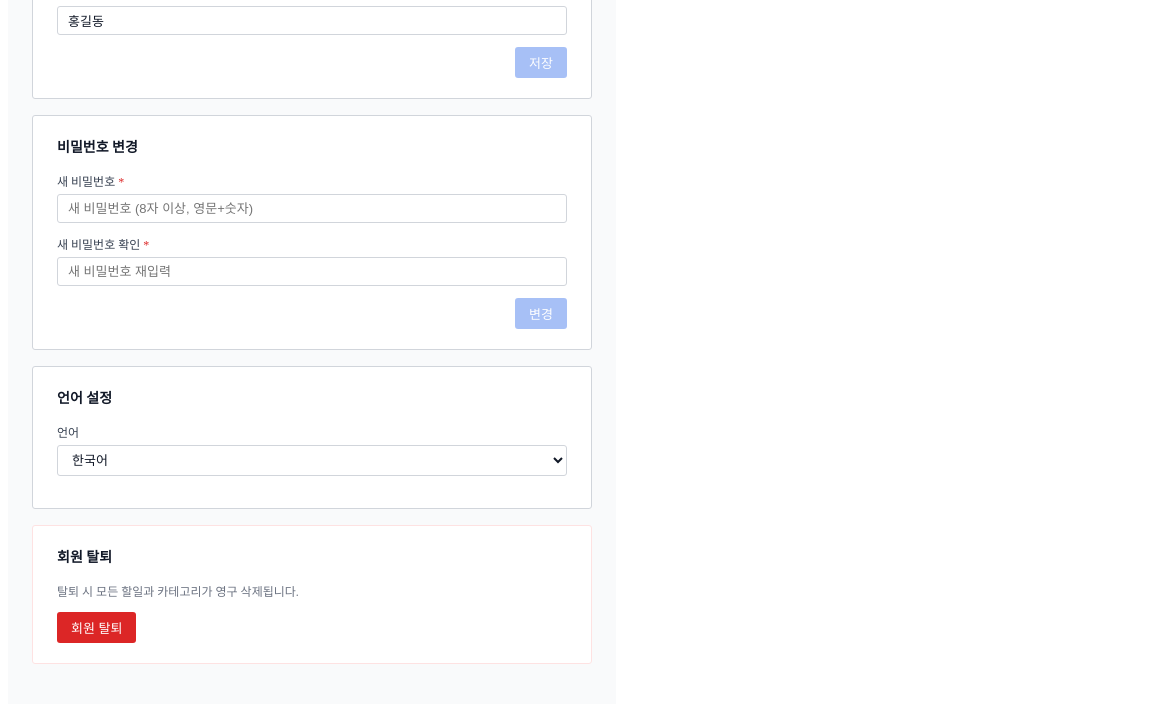
Test: ProfilePage — 회원 탈퇴 › 탈퇴 버튼 클릭 시 확인 다이얼로그가 표시된다
(page scrolled)
Click the button "회원 탈퇴": (97, 628) top-left (57, 612), bottom-right (136, 643)
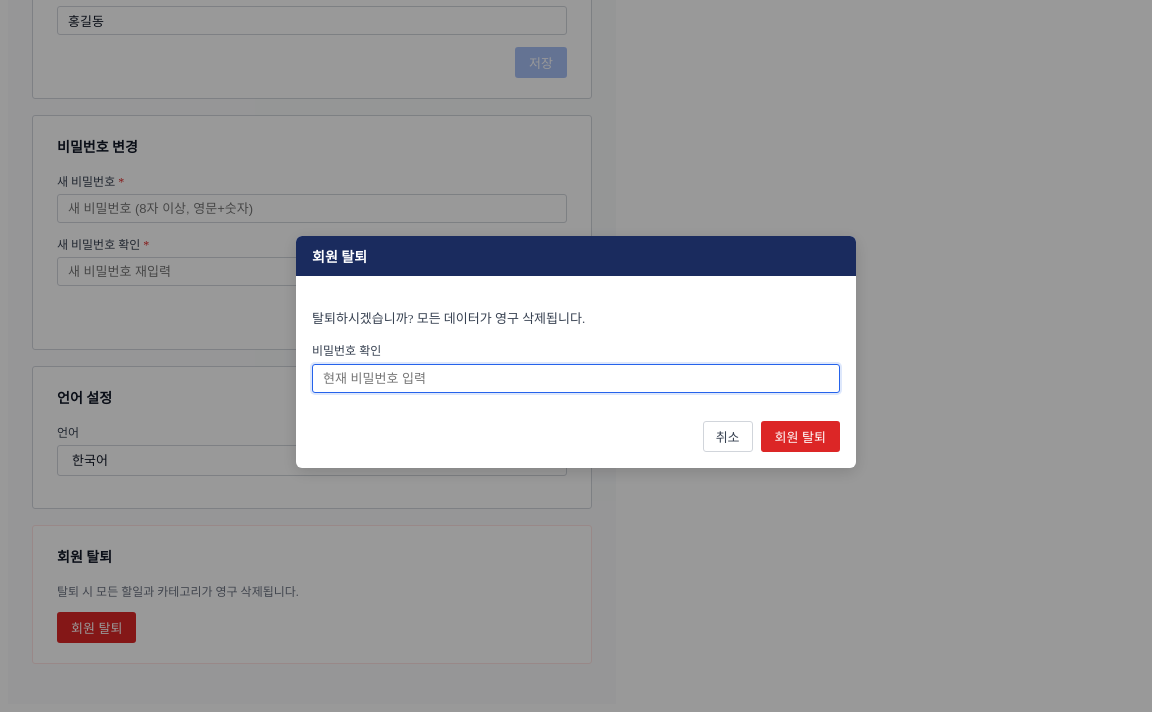
Now the dialog "회원 탈퇴" is shown, box top-left (296, 236), bottom-right (856, 468)
Now the password field labelled "비밀번호 확인" is shown, box top-left (312, 364), bottom-right (840, 393)
